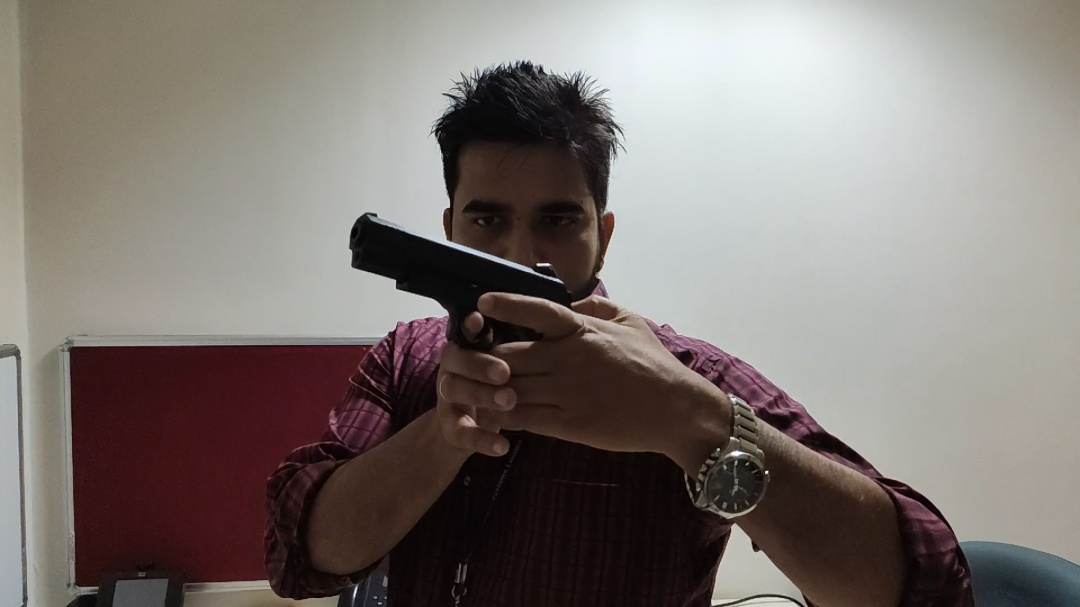gun: (344, 209, 609, 430)
